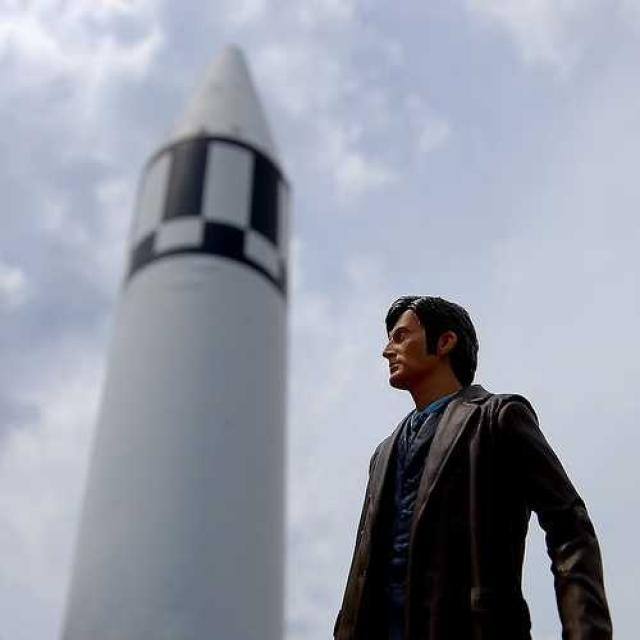missile: (64, 39, 295, 640)
